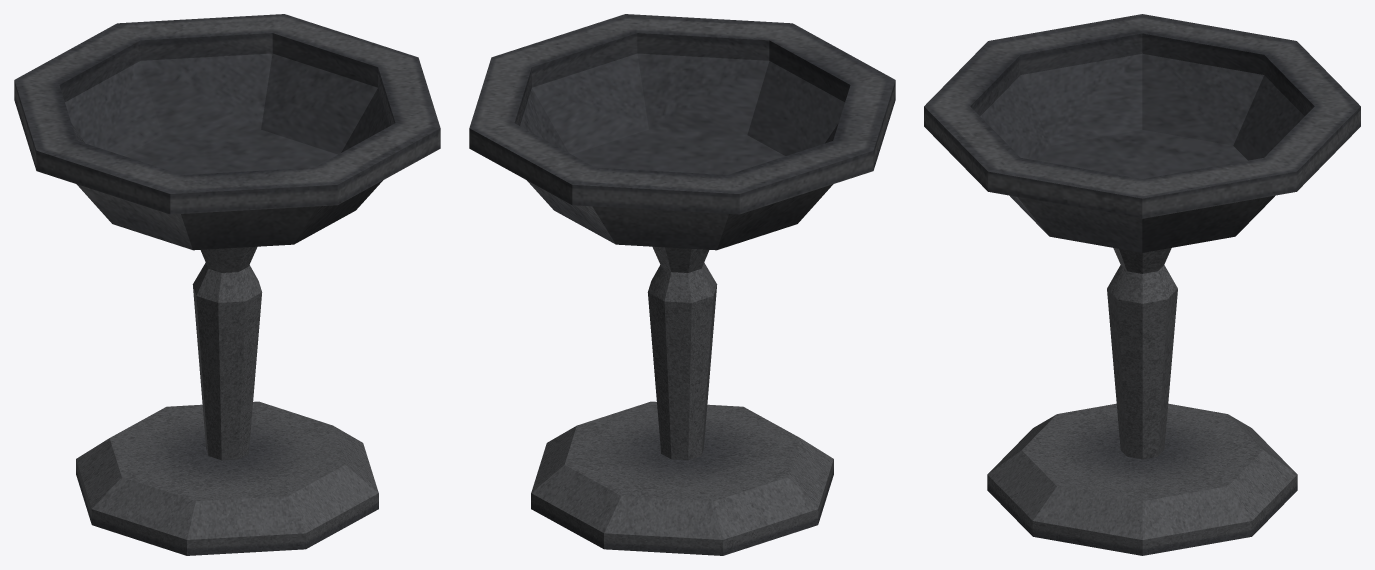
File: BirdBath.fbx
The picture shows the model from 3 angles, left to right: view 1: azimuth 30°, elevation 25°; view 2: azimuth 150°, elevation 25°; view 3: azimuth 270°, elevation 25°; orthographic projection.
Visible parts, largest first — view 1: Birdbath; view 2: Birdbath; view 3: Birdbath.
Part boxes in pixels (bbox=[...]): Birdbath: bbox=[14, 14, 440, 555]; Birdbath: bbox=[469, 14, 895, 555]; Birdbath: bbox=[924, 14, 1360, 555].
Size of the model in its own units: 28.12 by 28.12 by 27.28.
